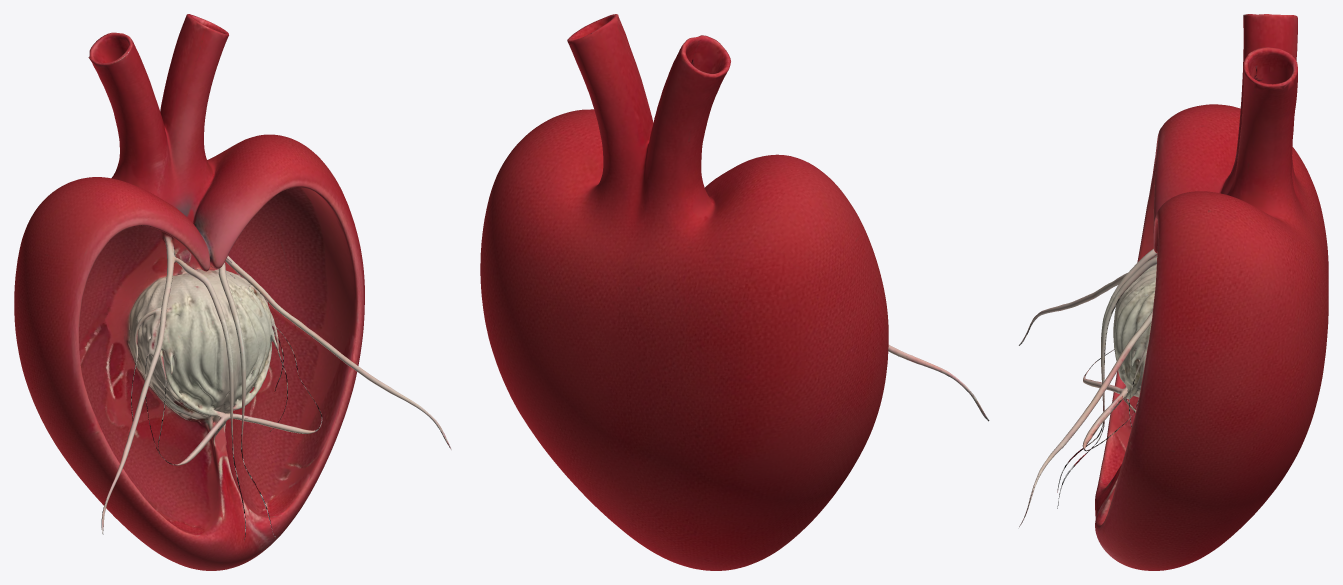
Rendered from heartworm.glb.
3 views of the same model, side by side, from view 1: azimuth 30°, elevation 25°; view 2: azimuth 150°, elevation 25°; view 3: azimuth 270°, elevation 25° (orthographic). The views are drawn at different scales.
Parts seen in each view (by area): view 1: model; view 2: model; view 3: model.
Part boxes in pixels (x1,y1,x2,y2): model: (14, 14, 451, 570); model: (480, 14, 989, 570); model: (1019, 14, 1328, 570).
Size of the model in its own units: 1.39 by 1.9 by 1.01.
Materials: 1 (1 with a texture image).
